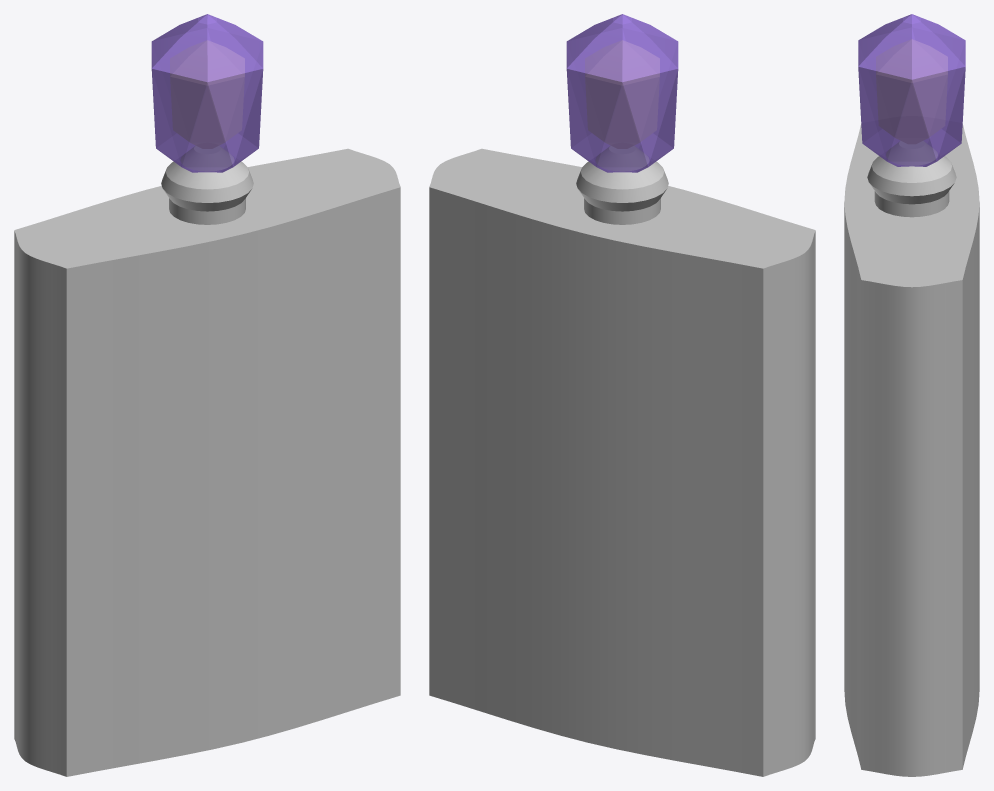
3 renders of one model, left to right at view 1: azimuth 30°, elevation 25°; view 2: azimuth 150°, elevation 25°; view 3: azimuth 270°, elevation 25°, orthographic. The views are drawn at different scales.
Visible parts, largest first — view 1: mesh2_mesh2-geometry, mesh1_mesh1-geometry, mesh4_mesh4-geometry; view 2: mesh2_mesh2-geometry, mesh1_mesh1-geometry, mesh4_mesh4-geometry; view 3: mesh2_mesh2-geometry, mesh1_mesh1-geometry, mesh4_mesh4-geometry.
Part boxes in pixels (x1,y1,x2,y2): mesh2_mesh2-geometry: (14,14,400,776); mesh1_mesh1-geometry: (170,41,244,148); mesh4_mesh4-geometry: (181,146,233,171); mesh2_mesh2-geometry: (429,14,815,776); mesh1_mesh1-geometry: (585,41,659,148); mesh4_mesh4-geometry: (596,146,648,171); mesh2_mesh2-geometry: (844,14,979,776); mesh1_mesh1-geometry: (876,40,947,143); mesh4_mesh4-geometry: (886,141,937,165).
Size of the model in its own units: 0.4668 by 0.8705 by 0.1556.
